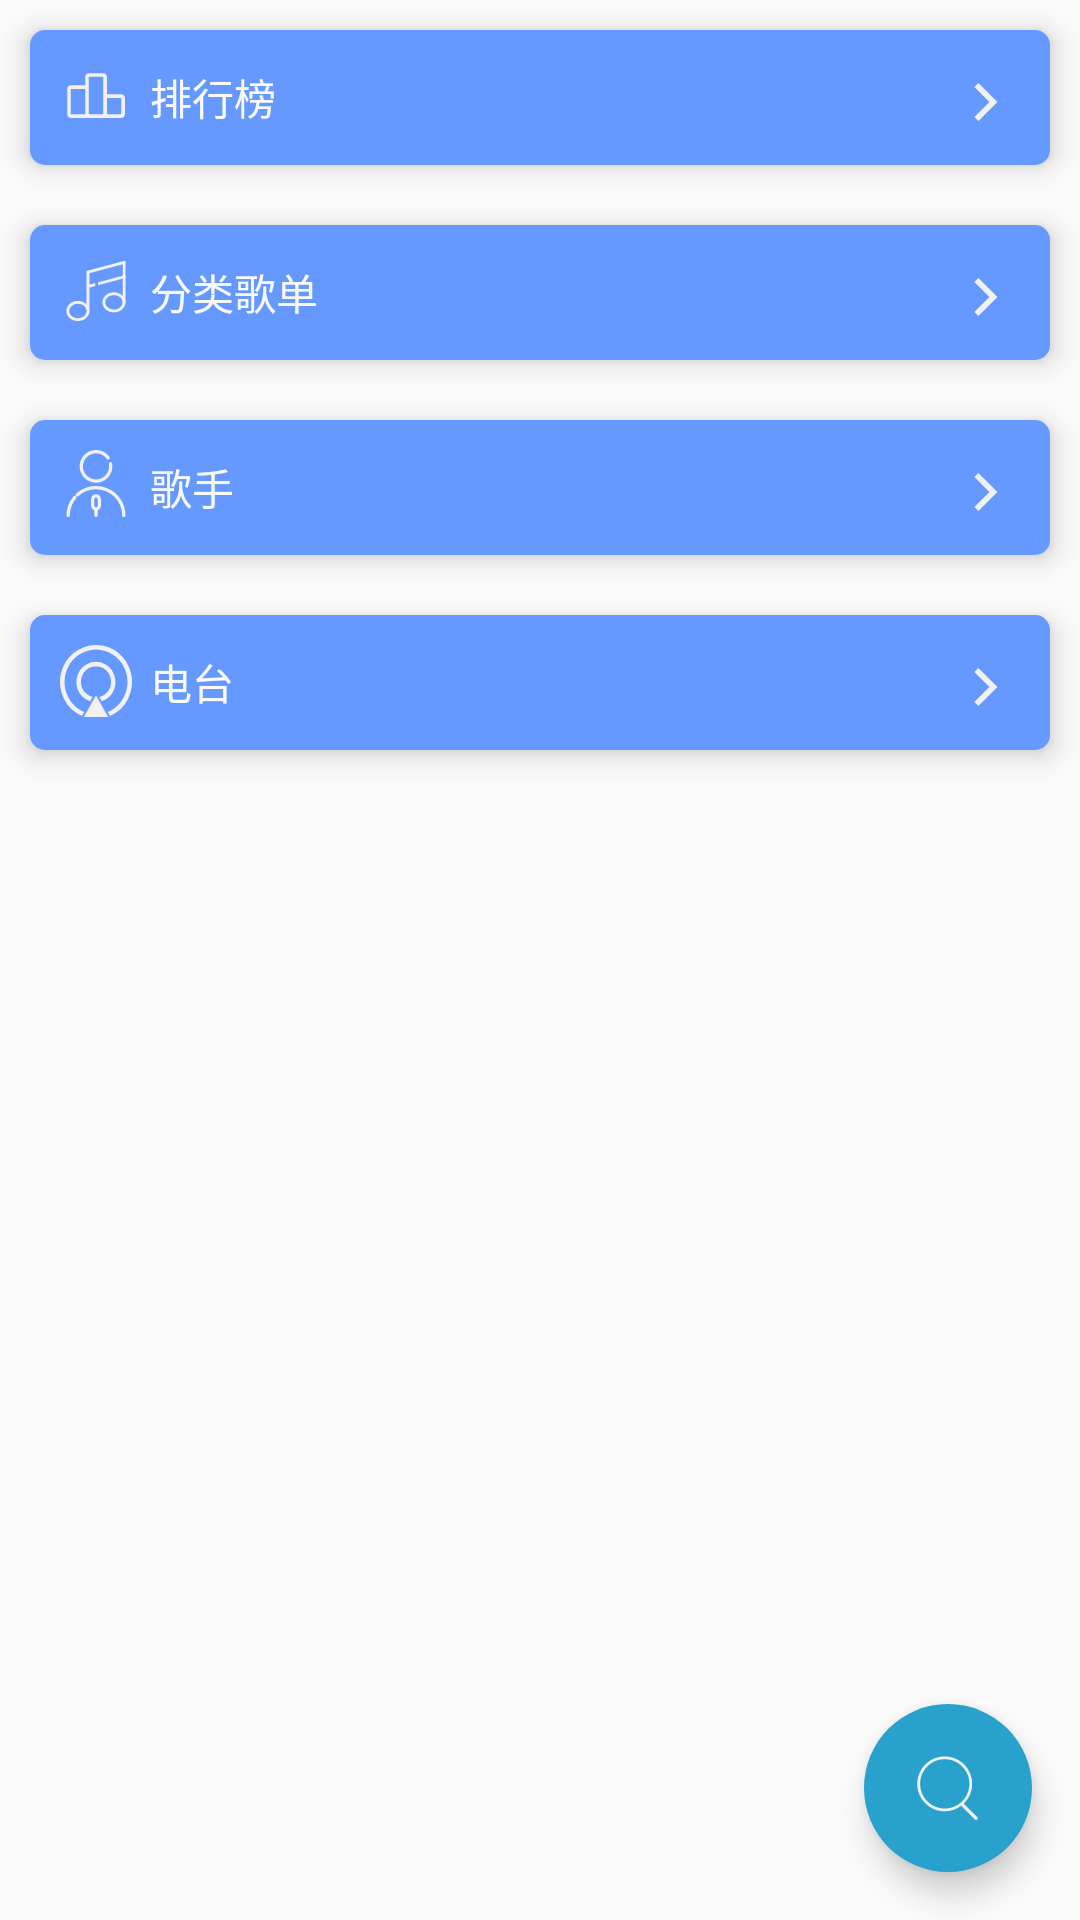

Icon click points for this 1080x1920 phone screenshot, format (x,y):
more: (985,102), (985,297), (985,492), (985,687)
search: (948,1788)
